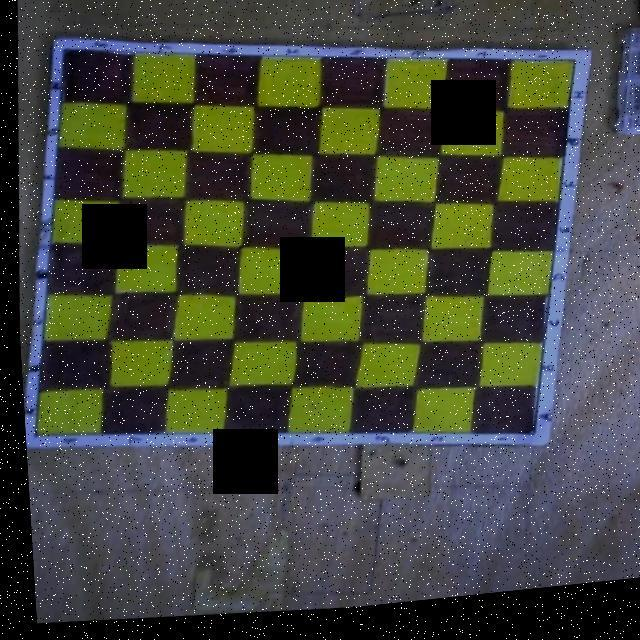chess-table-corners: (59, 48, 68, 54), (524, 443, 528, 447), (570, 71, 574, 75), (28, 434, 32, 438)
